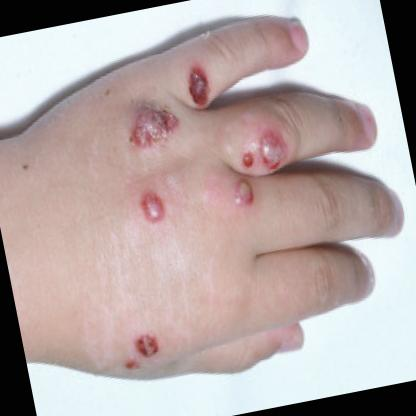Warts: (119, 98, 186, 162), (250, 125, 295, 176), (180, 60, 218, 115), (134, 180, 170, 232), (225, 176, 262, 217), (124, 330, 166, 366)
